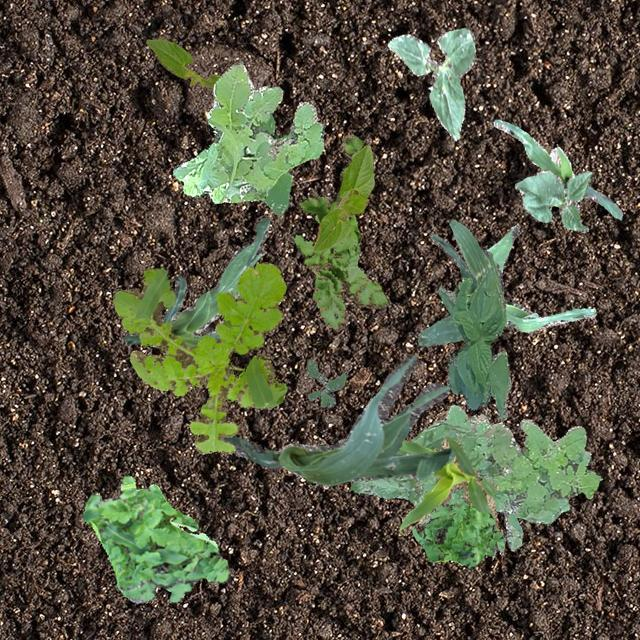crop: (220, 352, 454, 487), (122, 218, 268, 346), (464, 225, 596, 332), (492, 119, 622, 218), (418, 220, 506, 346), (438, 267, 510, 418), (394, 436, 498, 534), (386, 26, 474, 140), (312, 144, 373, 250), (514, 168, 590, 232), (146, 36, 220, 88)
weed: (349, 404, 602, 550), (112, 261, 286, 454), (172, 60, 324, 202), (82, 474, 230, 602), (294, 132, 386, 328), (410, 500, 504, 568), (254, 113, 292, 215), (306, 358, 346, 407)
